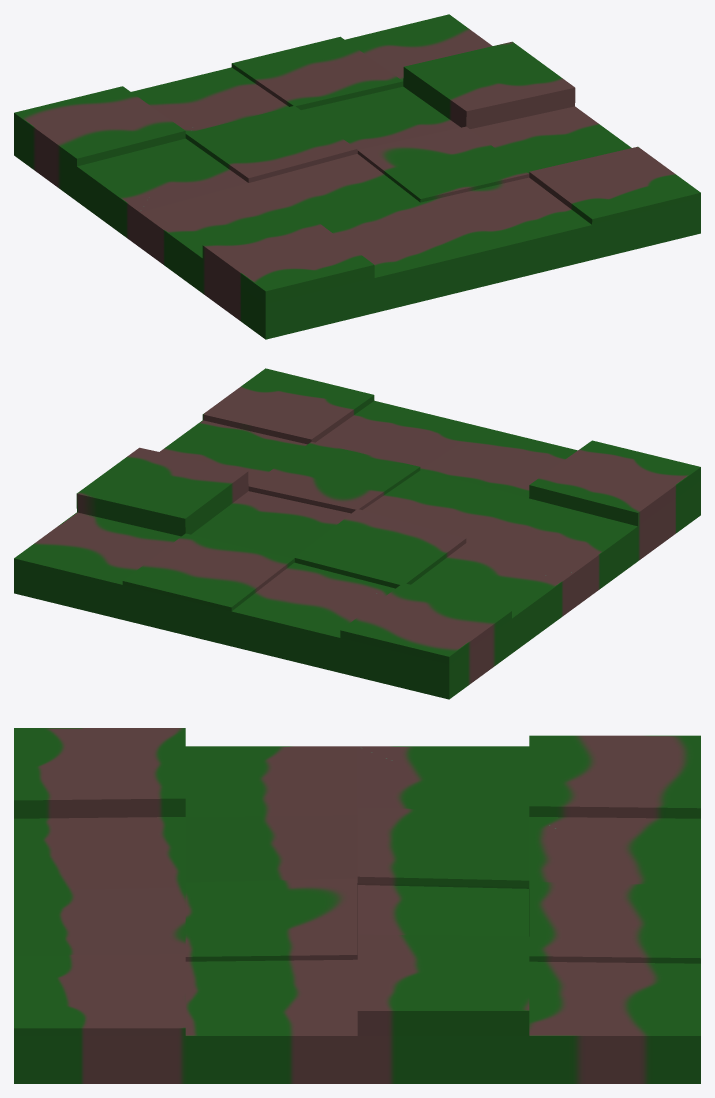
The model's file is terrain.glb.
The picture shows the model from 3 angles, top to bottom: view 1: azimuth 30°, elevation 25°; view 2: azimuth 150°, elevation 25°; view 3: azimuth 270°, elevation 25°; orthographic projection. The views are drawn at different scales.
Visible parts, largest first — view 1: Plane; view 2: Plane; view 3: Plane.
Part boxes in pixels (x1=…): Plane: x1=14, y1=14, x2=700, y2=339; Plane: x1=14, y1=368, x2=700, y2=699; Plane: x1=14, y1=728, x2=700, y2=1083.
Bounding box in the file's own units: 6.02 × 0.7459 × 6.03.
1 material, 1 textured.
